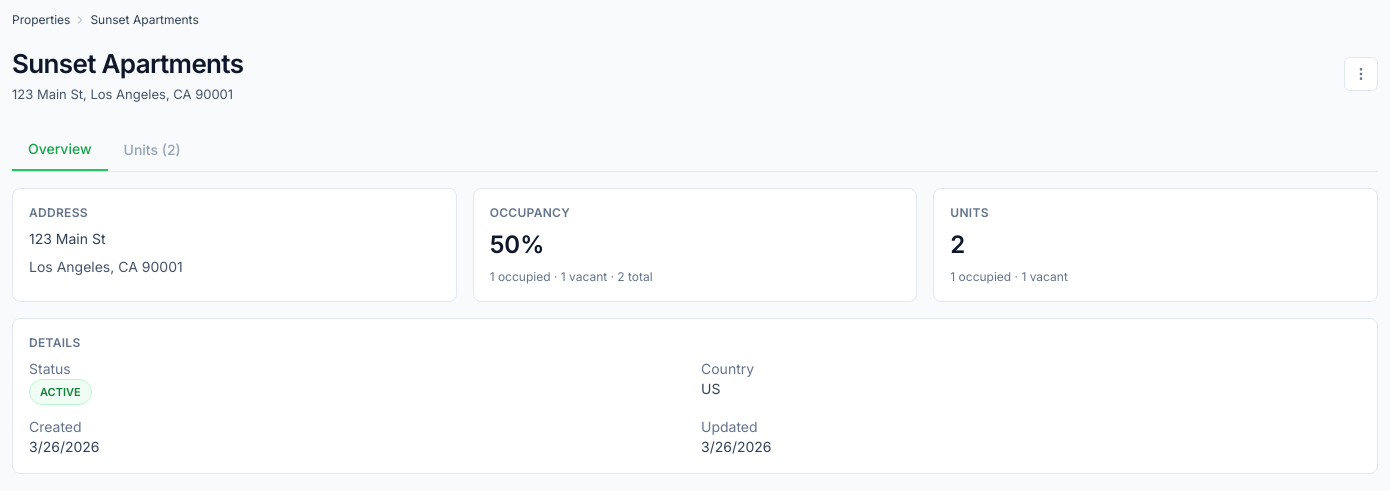
Scenario: Owner Portfolio Integration › Property detail page › Units tab shows units table with data
Note: Click on Units tab
Step 1. Click the tab "Units (2)" → (152, 150), box [108,128,197,170]
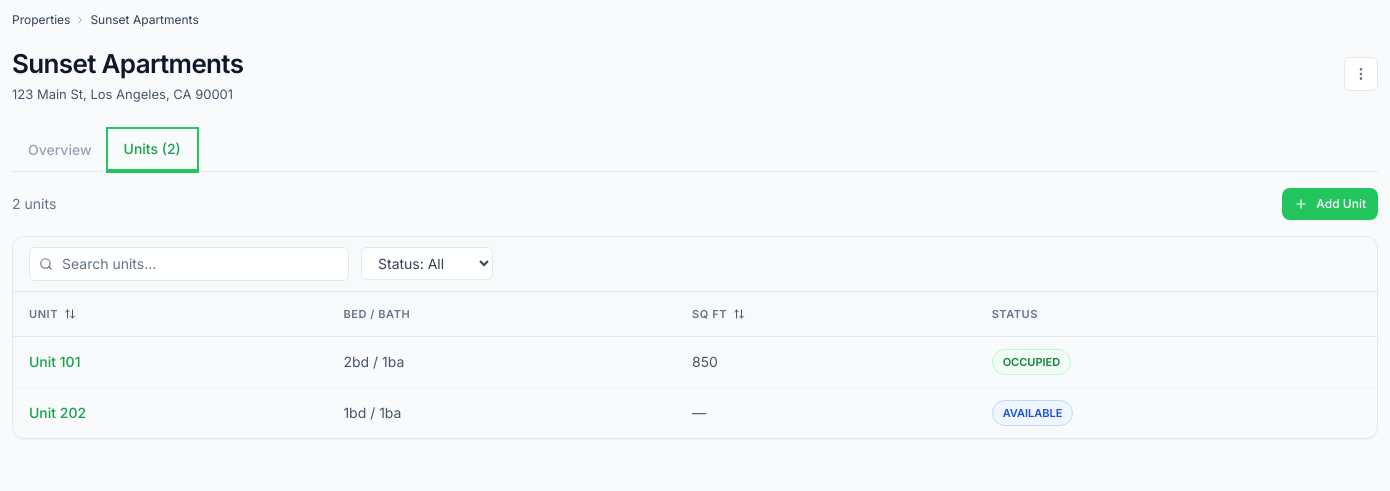
Expected: the link "Unit 101" is shown, [29,352,80,370]
Expected: the link "Unit 202" is shown, [29,404,86,420]
